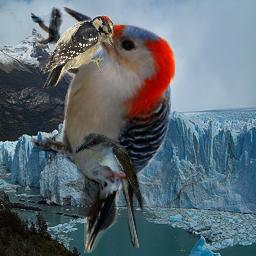Cuckoo: (75, 133, 145, 248)
Woodpecker: (31, 7, 175, 253), (36, 14, 114, 92)
